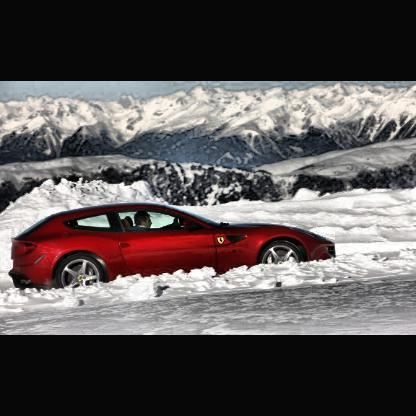Ferrari FF Coupe 2012: (10, 202, 336, 293)
